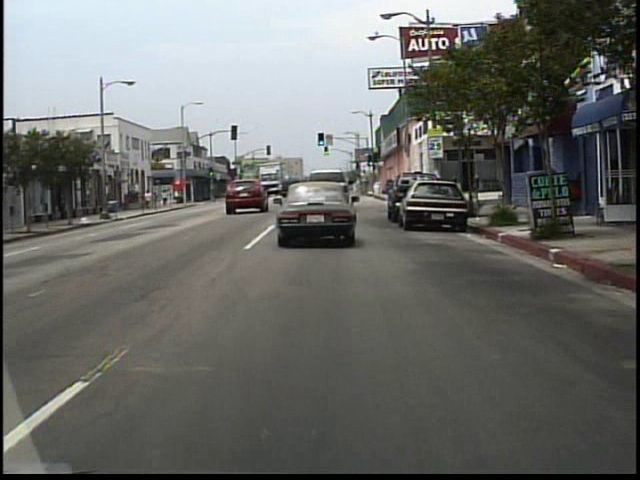person: (146, 188, 154, 210), (162, 188, 170, 207), (154, 190, 159, 209)
